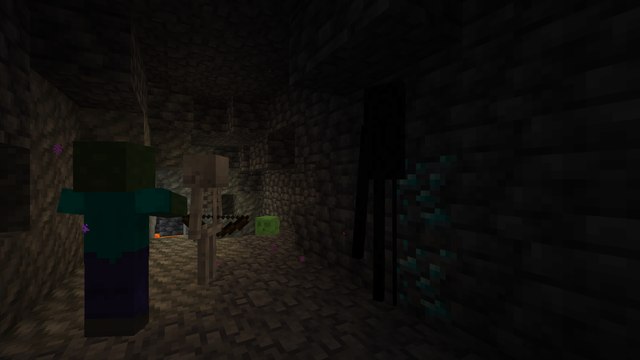endermens: (356, 70, 405, 318)
slimes: (256, 214, 278, 235)
squelettes: (185, 154, 229, 290)
zombies: (71, 144, 152, 355)
